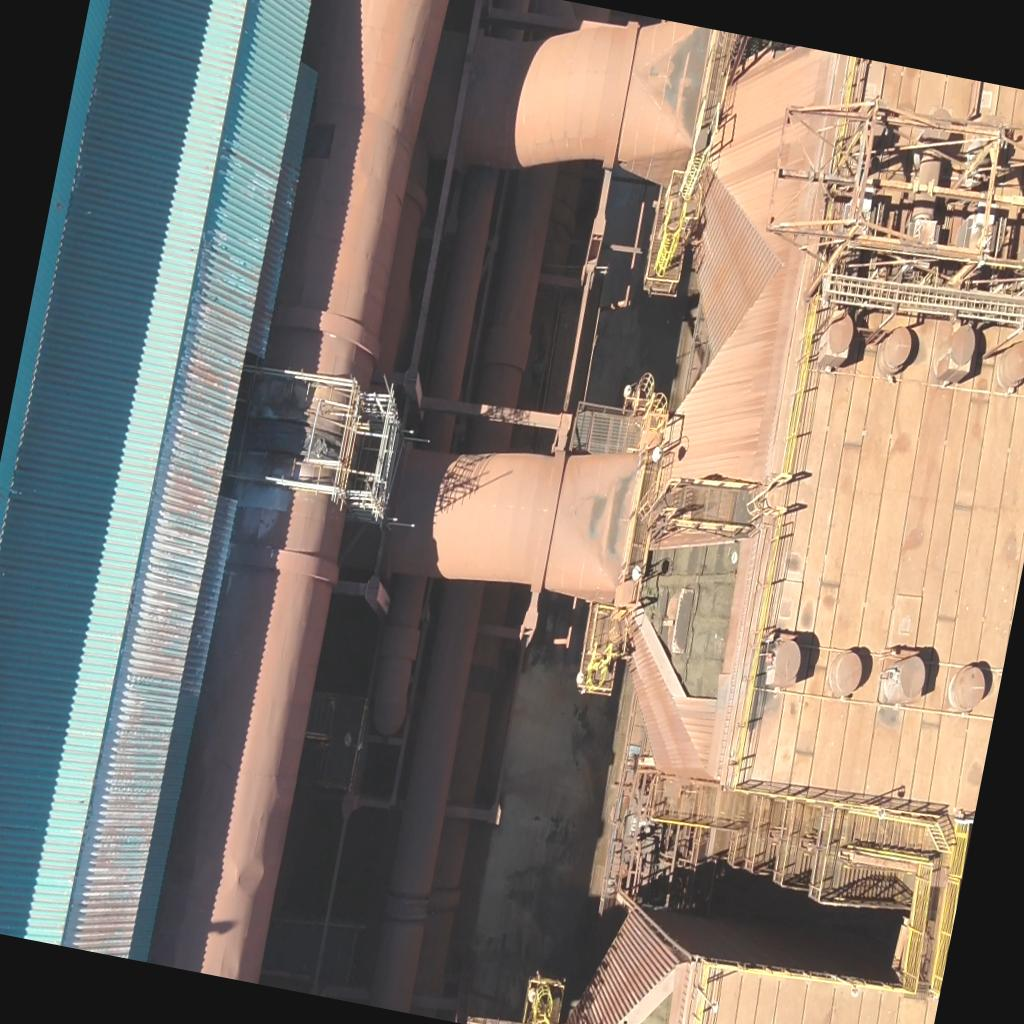Failures: (625, 516, 752, 705)
